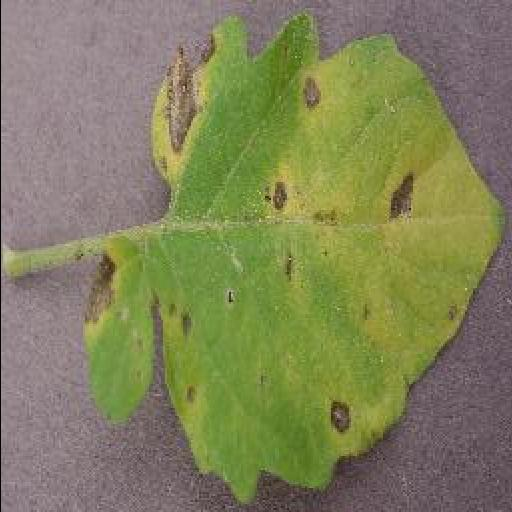disease_tomato: (144, 14, 506, 504)
